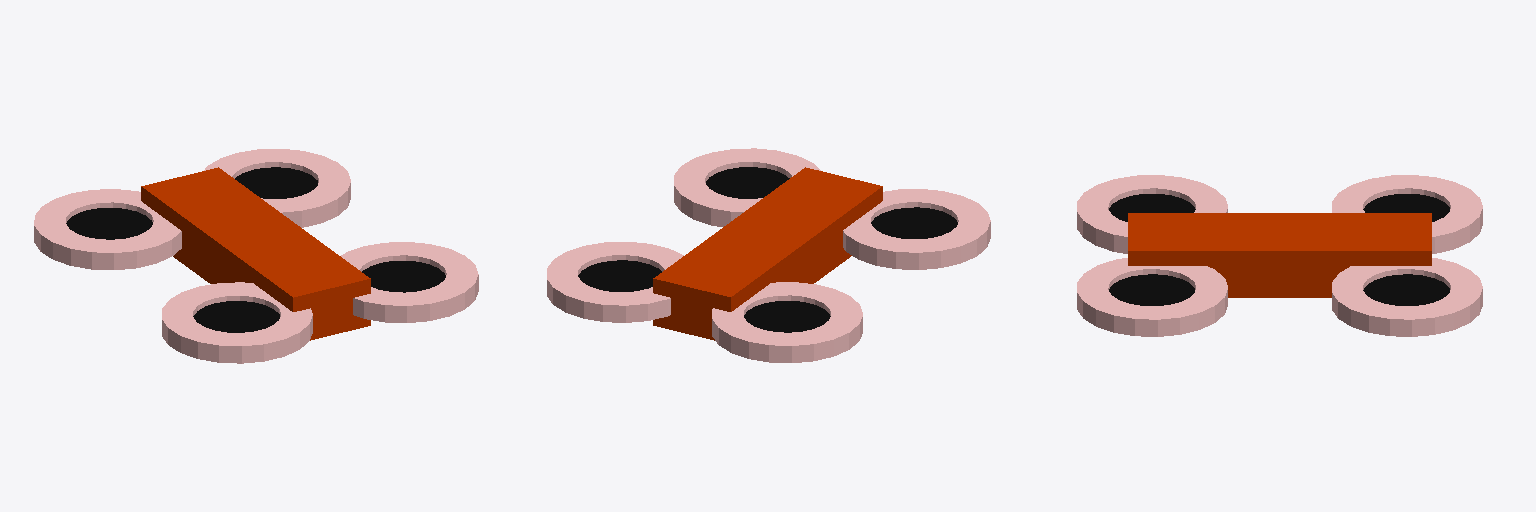
Rendered from main.obj.
3 views of the same model, side by side, from view 1: azimuth 30°, elevation 25°; view 2: azimuth 150°, elevation 25°; view 3: azimuth 270°, elevation 25° (orthographic).
Parts seen in each view (by area): view 1: 立方体_立方体.002; view 2: 立方体_立方体.002; view 3: 立方体_立方体.002.
Part boxes in pixels (x1,y1,x2,y2): 立方体_立方体.002: (34,149,478,363); 立方体_立方体.002: (547,148,990,362); 立方体_立方体.002: (1077,175,1482,336).
Size of the model in its own units: 21.52 by 3.27 by 25.51.